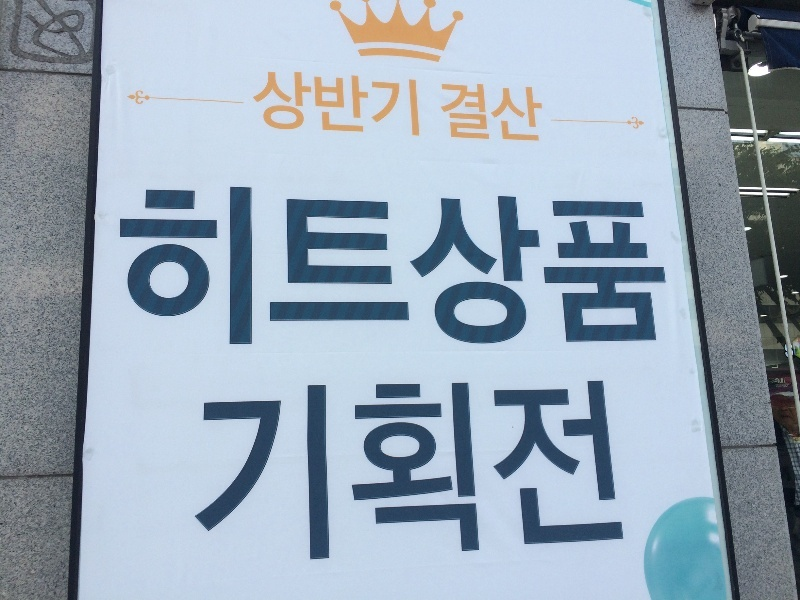text: (209, 380, 224, 569), (225, 380, 240, 569), (241, 380, 256, 569), (257, 380, 272, 569), (273, 380, 288, 569), (289, 380, 304, 569), (305, 380, 320, 569), (321, 380, 336, 569), (337, 380, 352, 569), (353, 380, 368, 569), (369, 380, 384, 569), (385, 380, 400, 569), (401, 380, 416, 569), (417, 380, 432, 569), (433, 380, 448, 569), (449, 380, 464, 569), (465, 380, 480, 569), (481, 380, 496, 569), (497, 380, 512, 569), (513, 380, 528, 569), (529, 380, 544, 569), (545, 380, 560, 569), (561, 380, 576, 569), (577, 380, 592, 569), (593, 380, 608, 569), (609, 380, 624, 569), (129, 184, 144, 347), (145, 184, 160, 347), (161, 184, 176, 347), (177, 184, 192, 347), (193, 184, 208, 347), (209, 184, 224, 347), (225, 184, 240, 347), (241, 184, 256, 347), (257, 184, 272, 347), (273, 184, 288, 347), (289, 184, 304, 347), (305, 184, 320, 347), (321, 184, 336, 347), (337, 184, 352, 347), (353, 184, 368, 347), (369, 184, 384, 347), (385, 184, 400, 347), (401, 184, 416, 347), (417, 184, 432, 347), (433, 184, 448, 347), (449, 184, 464, 347), (465, 184, 480, 347), (481, 184, 496, 347), (497, 184, 512, 347), (513, 184, 528, 347), (529, 184, 544, 347), (545, 184, 560, 347), (561, 184, 576, 347), (577, 184, 592, 347), (593, 184, 608, 347), (609, 184, 624, 347), (625, 184, 640, 347), (641, 184, 656, 347), (657, 184, 672, 347), (117, 184, 128, 347), (199, 380, 208, 569), (673, 184, 680, 347), (273, 70, 288, 138), (289, 70, 304, 138), (305, 70, 320, 138), (321, 70, 336, 138), (337, 70, 352, 138), (353, 70, 368, 138), (369, 70, 384, 138), (385, 70, 400, 138), (401, 70, 416, 138), (258, 70, 272, 138), (449, 83, 464, 143), (465, 83, 480, 143), (481, 83, 496, 143), (497, 83, 512, 143), (513, 83, 528, 143), (529, 83, 544, 143), (438, 83, 448, 143), (417, 70, 422, 138), (625, 380, 626, 569), (545, 83, 547, 143), (791, 345, 800, 356), (774, 378, 784, 384), (775, 383, 784, 388), (785, 343, 788, 358), (785, 383, 789, 388)
